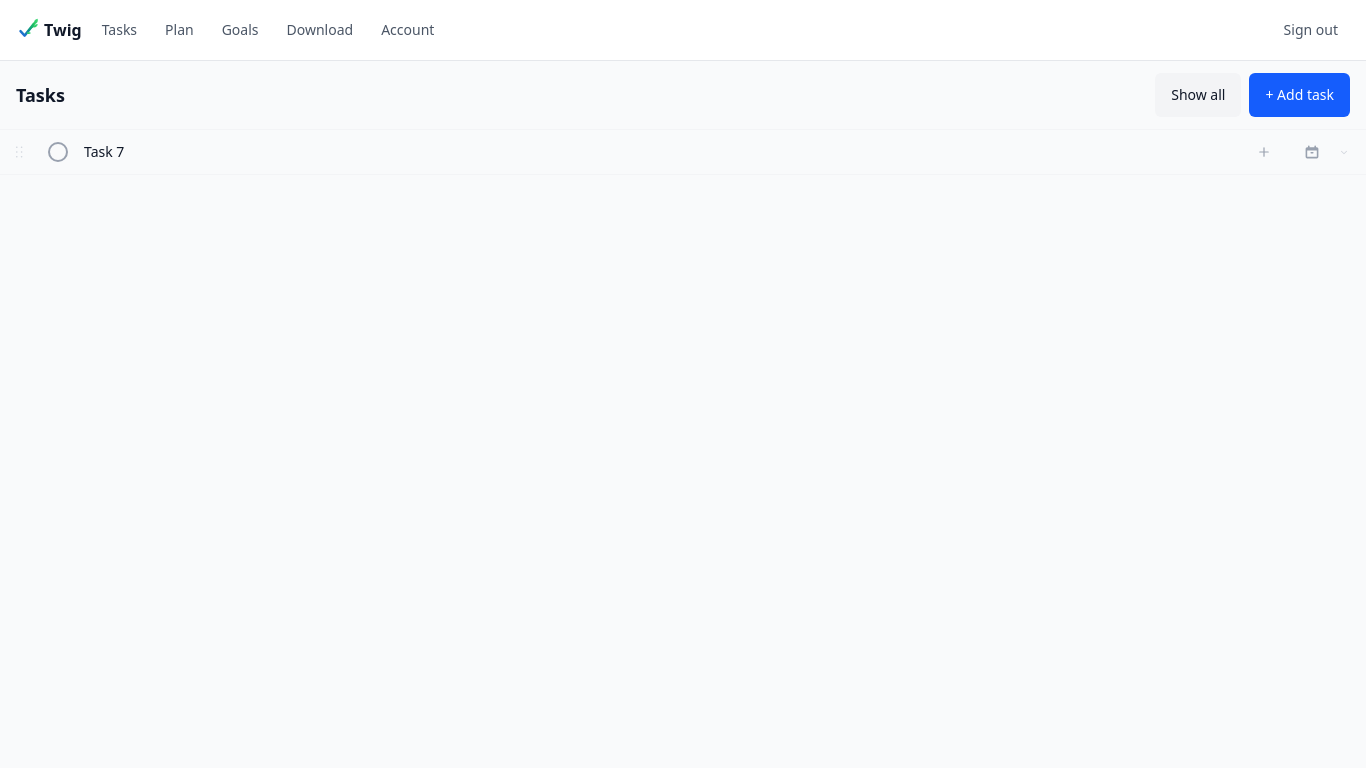
Test: TreeRow — plan after create for sub-tasks (US1) › sub-task create succeeds but AddPlanTask fails ⇒ partial-failure toast, no throw
Click the button named "Add sub-task": x=1264, y=152 top-left (1242, 130), bottom-right (1286, 174)
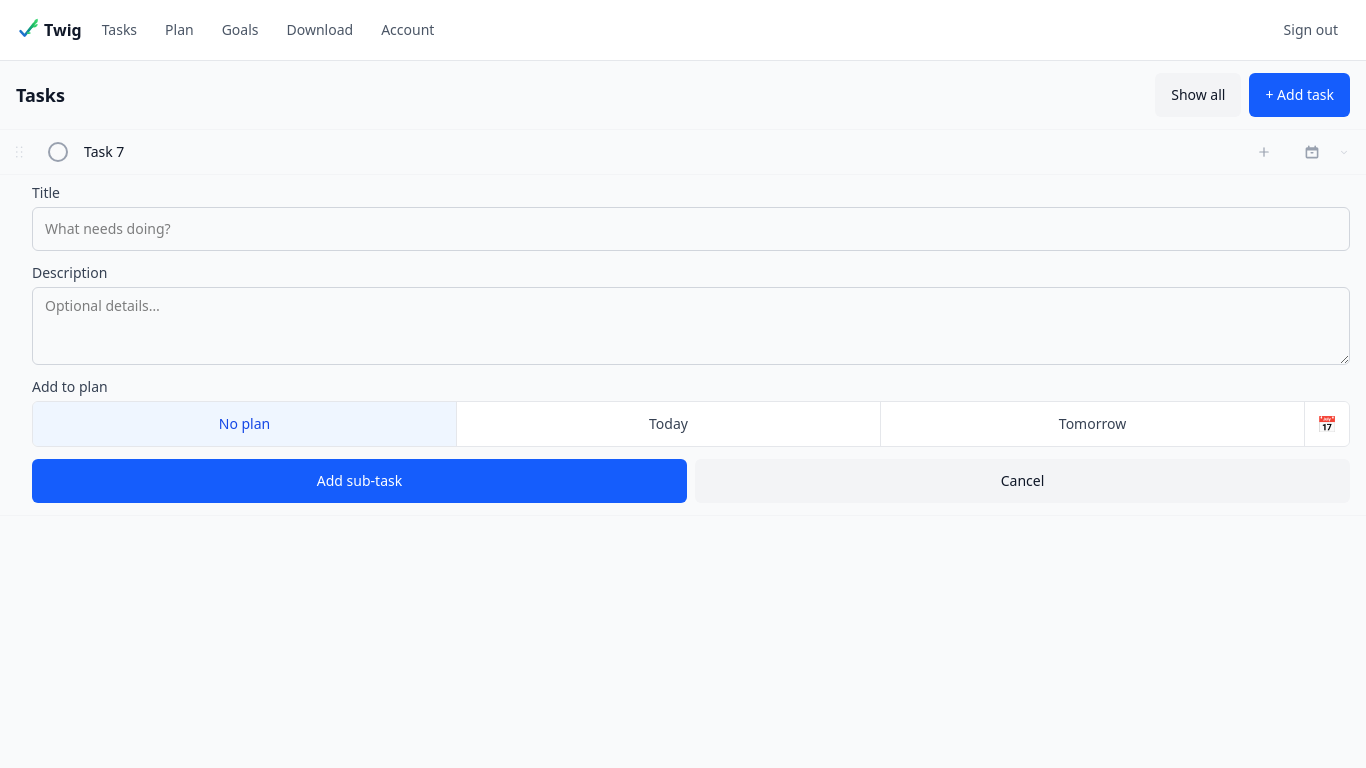
In the field labelled "Title": x=691, y=229 top-left (32, 207), bottom-right (1350, 251), type "Sub partial"
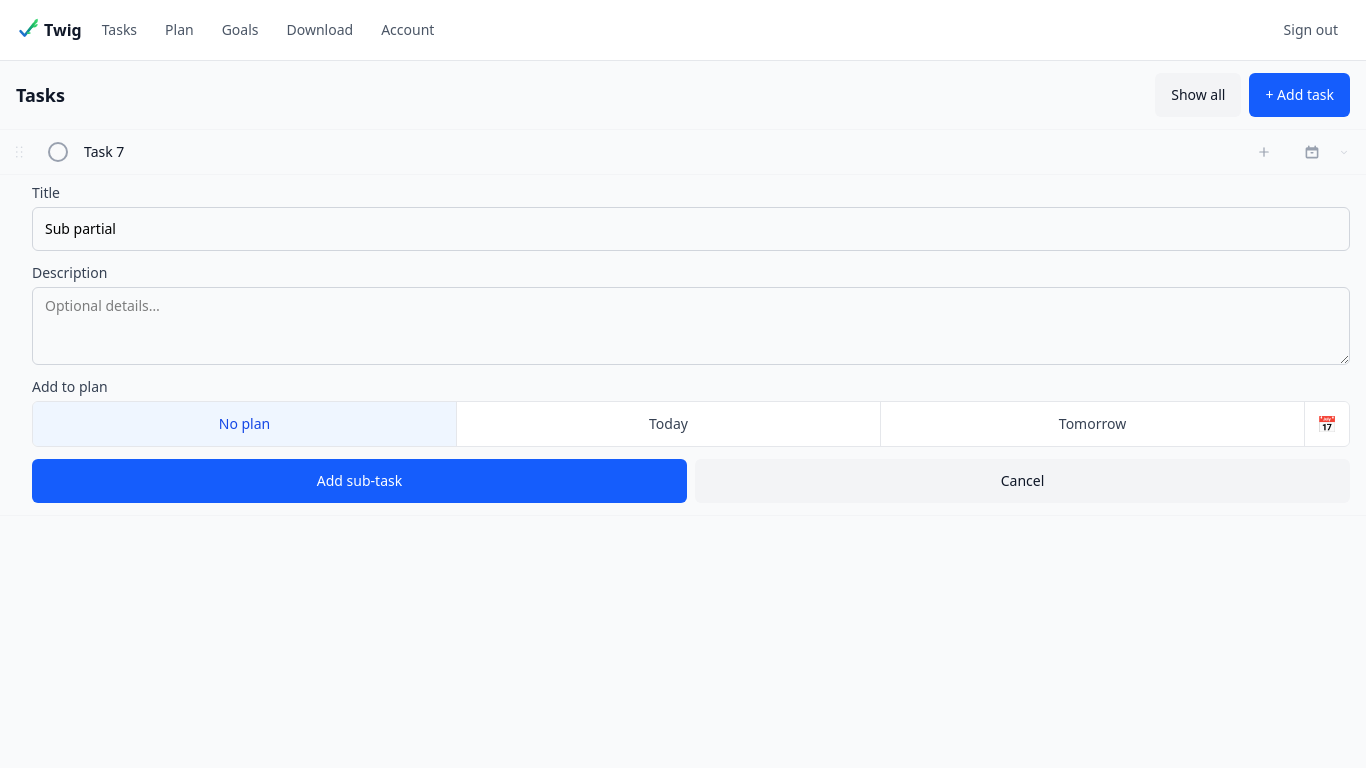
Click the radio button "Today": x=669, y=424 top-left (457, 402), bottom-right (881, 446)
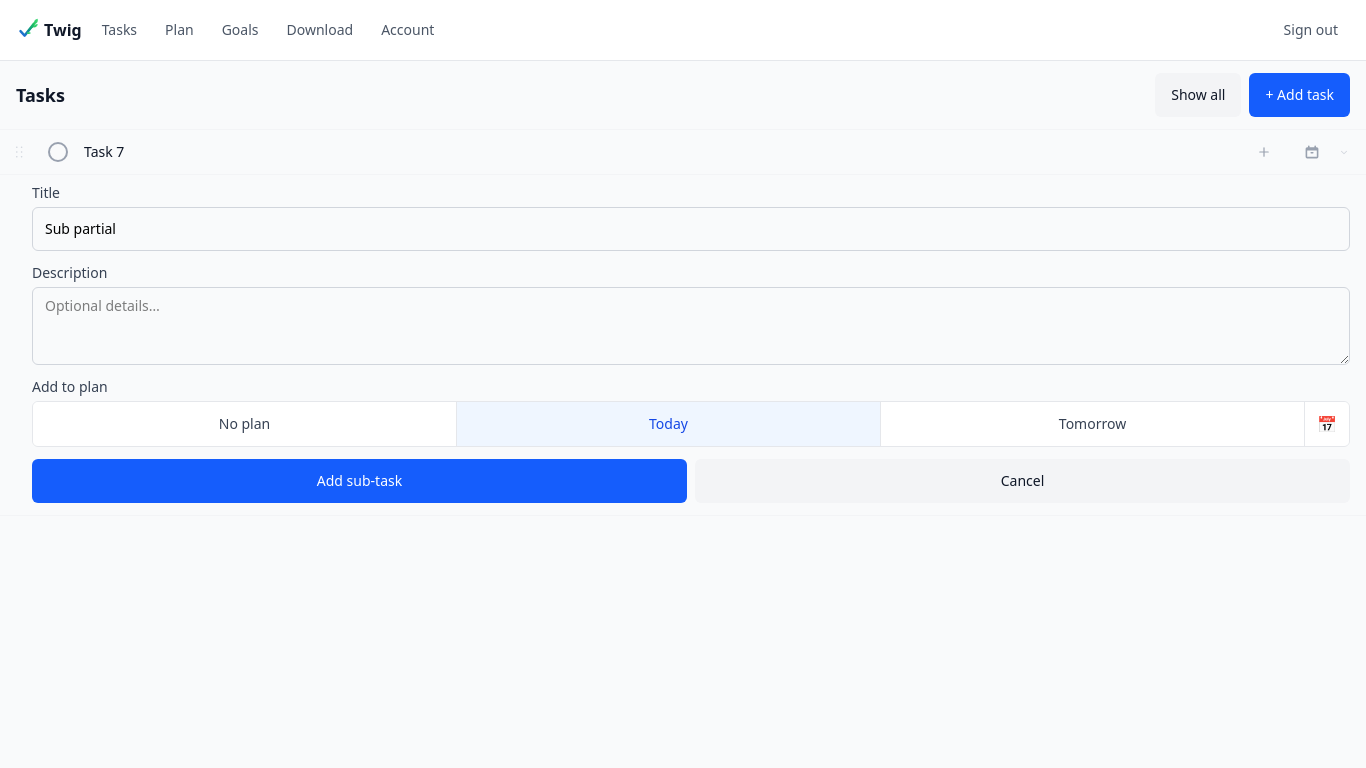
Click the button "Add sub-task": x=360, y=481 top-left (32, 459), bottom-right (687, 503)
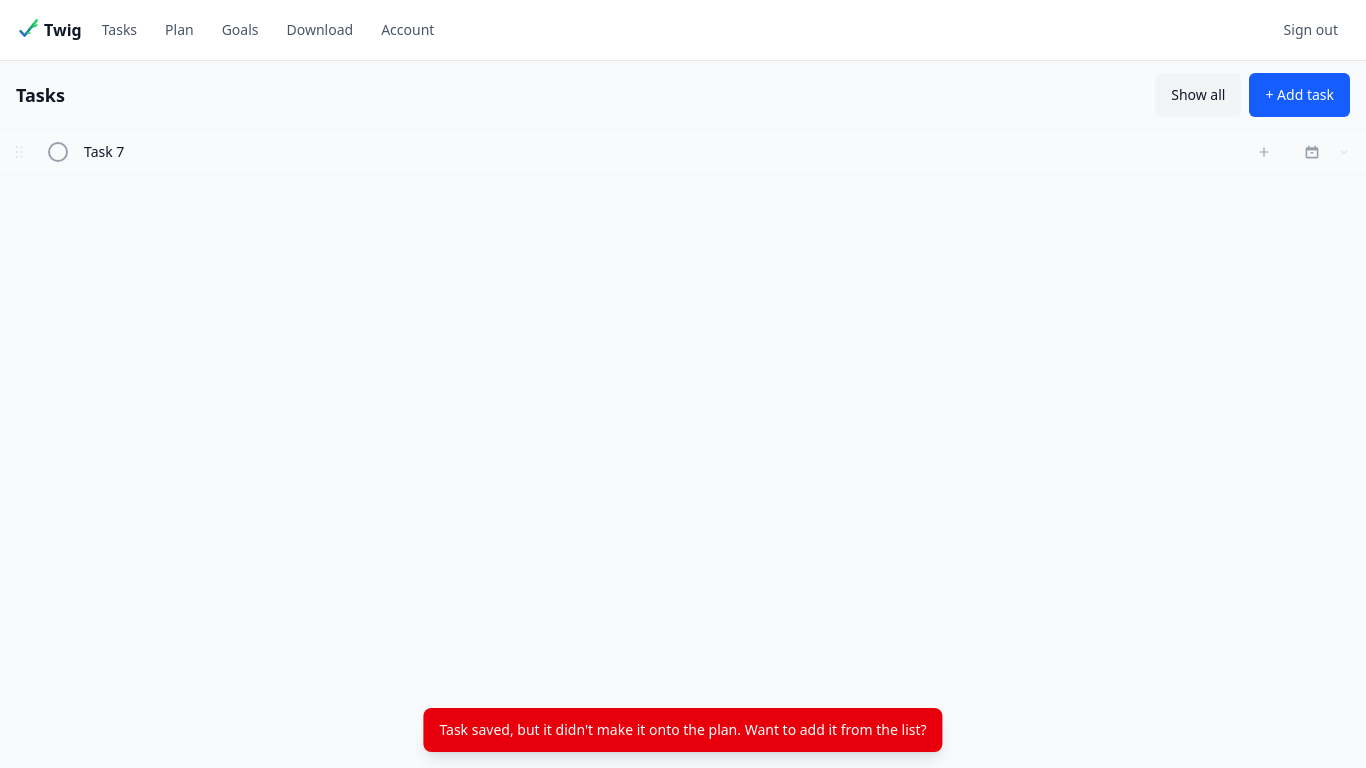
Now the text "Task saved, but it didn't make it onto the plan. Want to add it from the list?" is shown, box top-left (423, 708), bottom-right (943, 752)
Now the label labelled "Title" is gone
